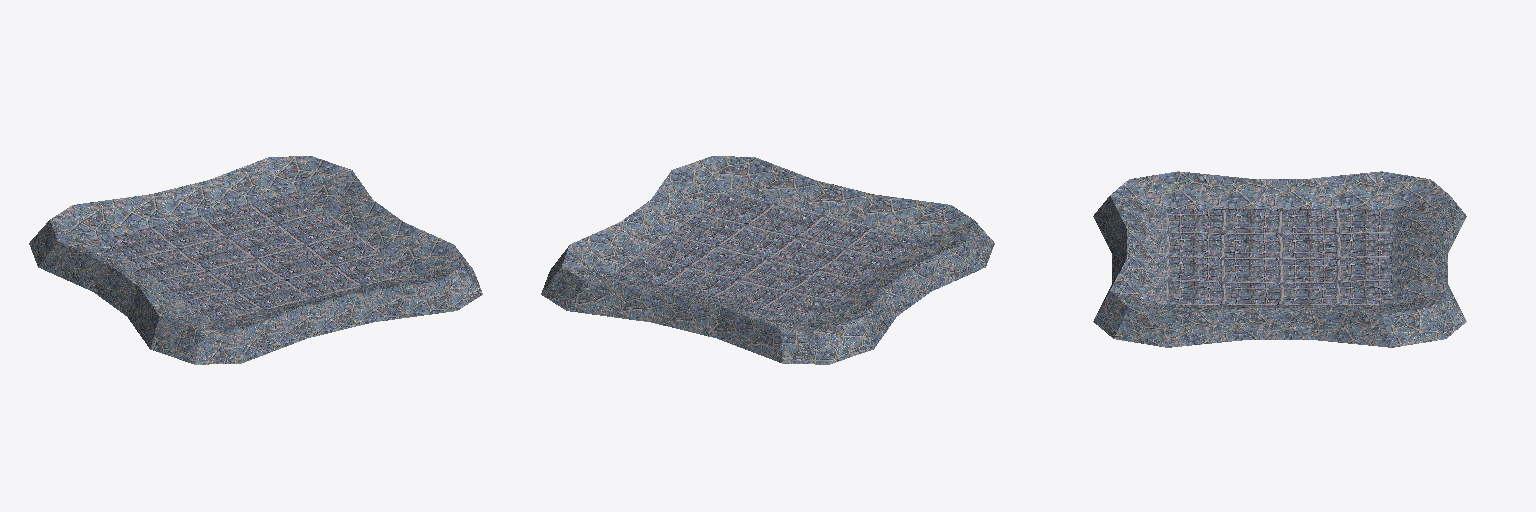
The picture shows the model from 3 angles: view 1: azimuth 30°, elevation 25°; view 2: azimuth 150°, elevation 25°; view 3: azimuth 270°, elevation 25°; orthographic projection.
Size of the model in its own units: 59.45 by 4.52 by 59.45.
Materials: 2 (2 with a texture image).